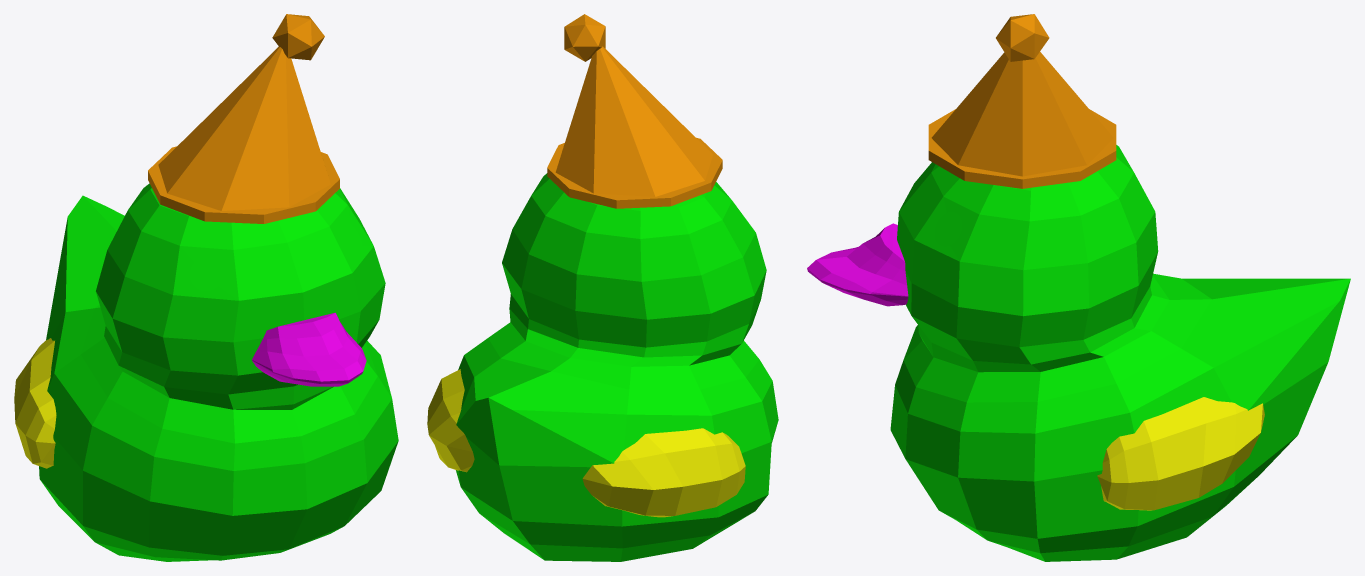
Rendered from rubber_duck_02.fbx.
The picture shows the model from 3 angles, left to right: view 1: azimuth 30°, elevation 25°; view 2: azimuth 150°, elevation 25°; view 3: azimuth 270°, elevation 25°; orthographic projection. The views are drawn at different scales.
Parts seen in each view (by area): view 1: rubber_duck_02; view 2: rubber_duck_02; view 3: rubber_duck_02.
Boxes of the visible parts, <box> form: rubber_duck_02: <box>14,14,398,561</box>; rubber_duck_02: <box>427,14,778,561</box>; rubber_duck_02: <box>807,14,1350,561</box>.
Bounding box in the file's own units: 5.8 × 8.48 × 8.09.
